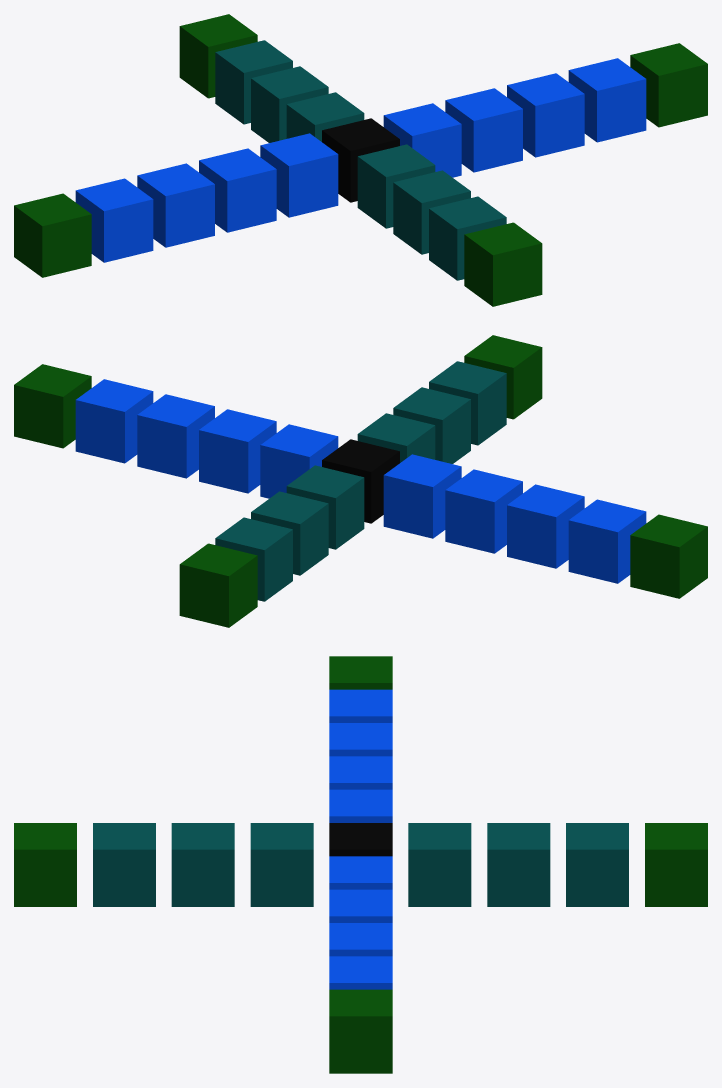
The model's file is simple.fbx.
3 views of the same model, one above another, from view 1: azimuth 30°, elevation 25°; view 2: azimuth 150°, elevation 25°; view 3: azimuth 270°, elevation 25° (orthographic). The views are drawn at different scales.
Parts seen in each view (by area): view 1: simple_cube:Mesh; view 2: simple_cube:Mesh; view 3: simple_cube:Mesh.
Boxes of the visible parts, x1,y1,x2,y2 form: simple_cube:Mesh: (14, 14, 707, 306); simple_cube:Mesh: (14, 335, 707, 627); simple_cube:Mesh: (14, 656, 707, 1073).
Size of the model in its own units: 10.8 by 0.8 by 8.8.
